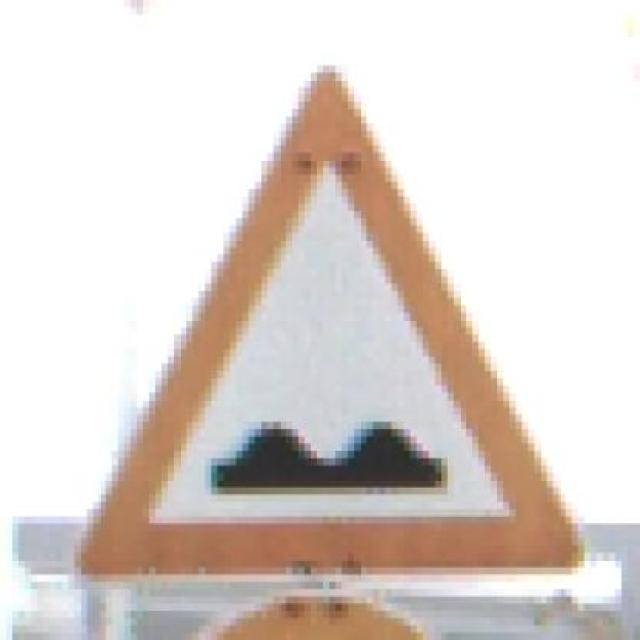Uneven Road: (68, 51, 590, 575)
